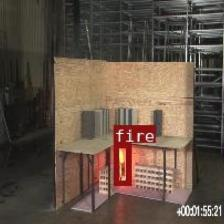fire: (113, 142, 130, 185)
